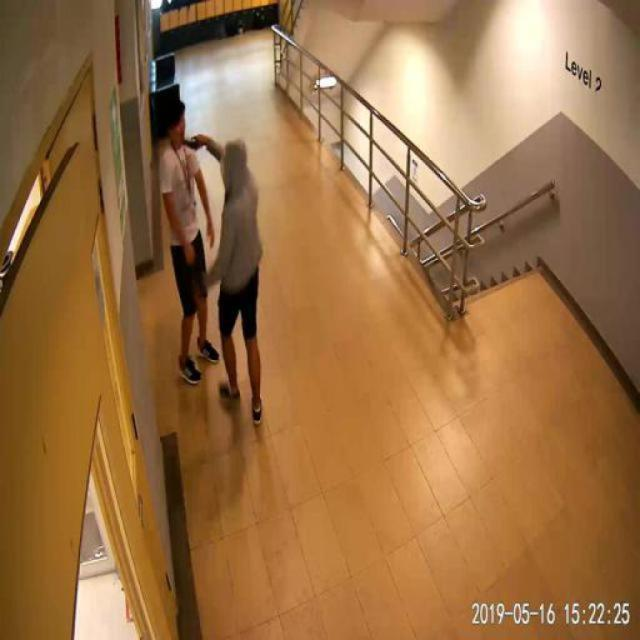pistol: (181, 130, 205, 150)
